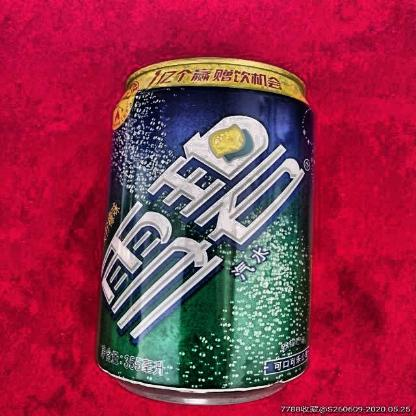Can: (97, 56, 313, 404)
